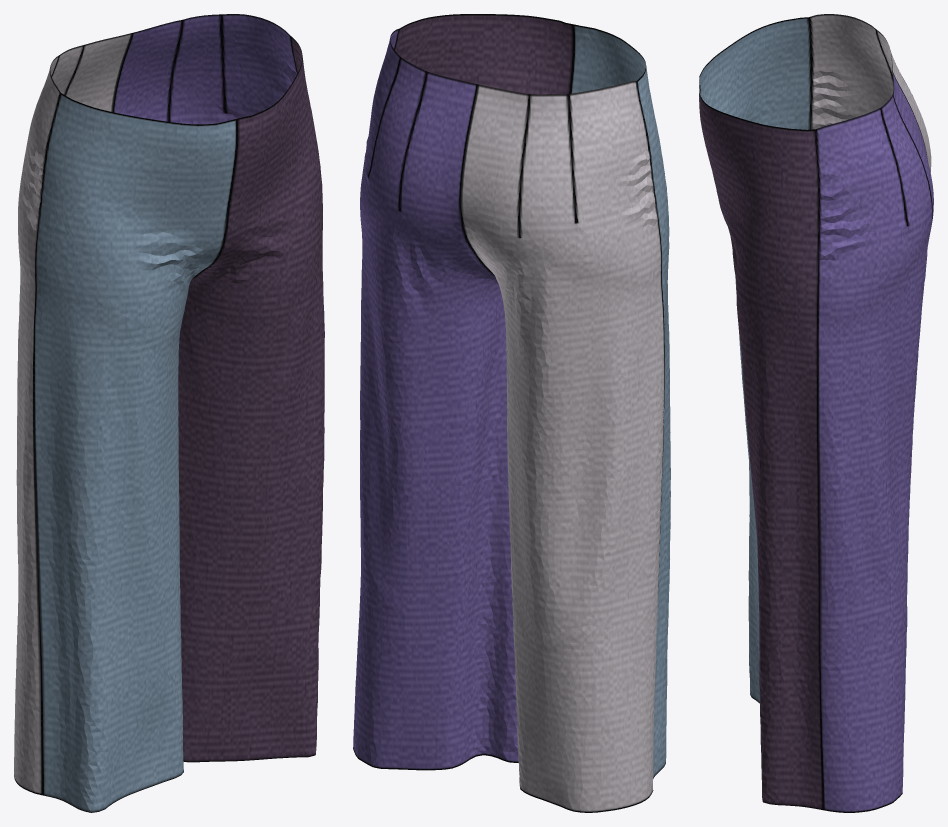
File: valid_garment_lower_sim.obj
The picture shows the model from 3 angles, left to right: view 1: azimuth 30°, elevation 25°; view 2: azimuth 150°, elevation 25°; view 3: azimuth 270°, elevation 25°; orthographic projection. The views are drawn at different scales.
Size of the model in its own units: 40.16 by 94.22 by 29.38.
Materials: 1 (1 with a texture image).
